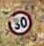limite 30: (6, 8, 33, 35)
